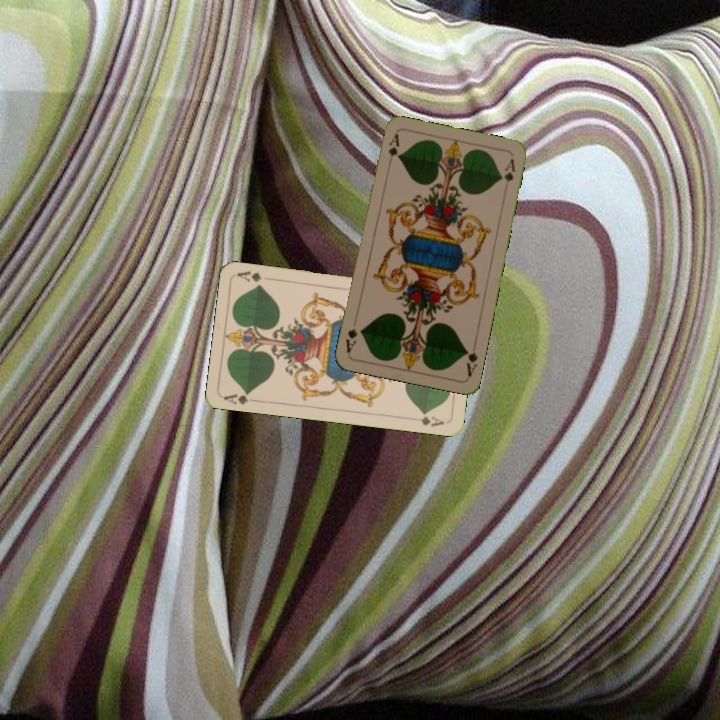GA: (220, 387, 260, 407), (461, 339, 480, 379), (384, 130, 401, 159)
